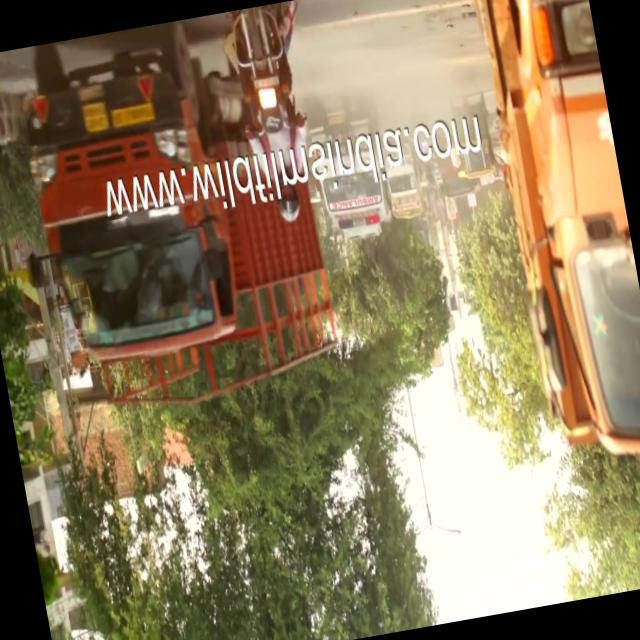ambulance: (323, 170, 398, 248)
